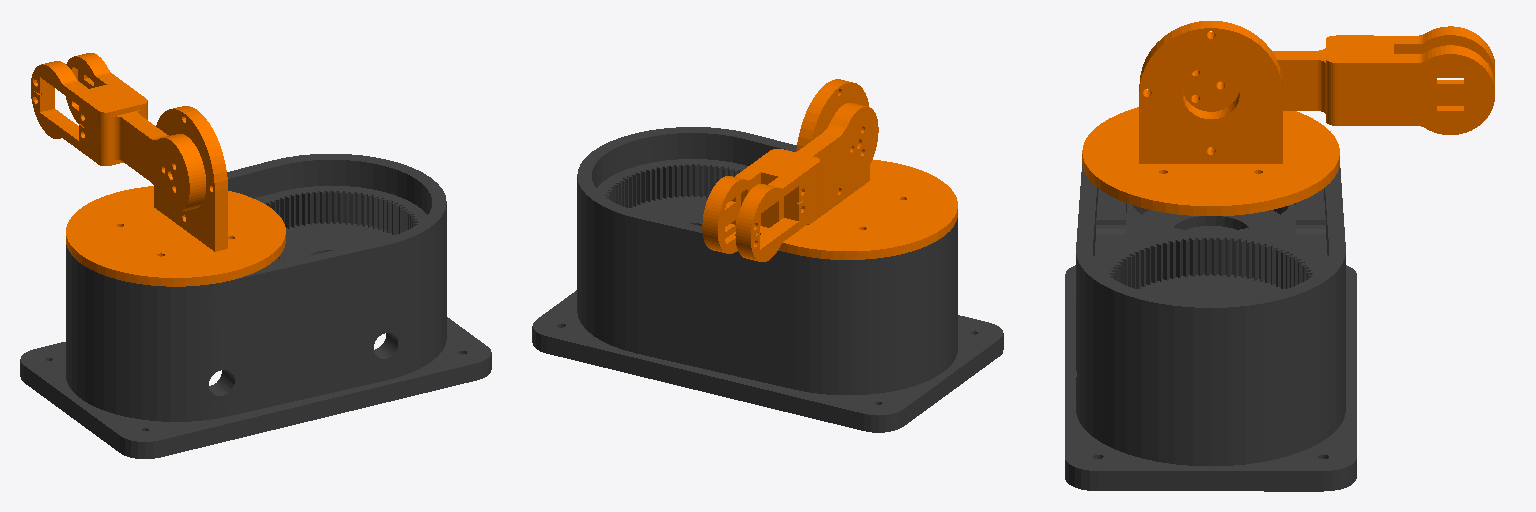
The robot description file, URDF, robot "mi_robot_mesh":
<?xml version="1.0"?>
<robot name="mi_robot_mesh">

<link name="world"/>


  <!-- ============================================== -->
  <!-- 0. BASE FIJA NUEVA                             -->
  <!-- ============================================== -->

  <joint name="joint_base_fija" type="fixed">
    <parent link="world"/>
    <child link="base_fija_link"/>
    <origin xyz="0.09374 0.0 0.0" rpy="0 0 1.57" />
  </joint>

  <link name="base_fija_link">
    <visual>
      <origin xyz="0 0 0" rpy="0 3.141592 0" />
      <geometry>
        <mesh filename="package://movimientos_babotas/meshes/base_fija.stl" scale="0.001 0.001 0.001"/>
      </geometry>
      <material name="gris_oscuro">
        <color rgba="0.3 0.3 0.3 1.0"/>
      </material>
    </visual>
  </link>

  <!-- ============================================== -->
  <!-- ARTICULACION BASE FIJA A CODO BASE             -->
  <!-- ============================================== -->

  <joint name="joint_base_fija_codo" type="revolute">
    <parent link="base_fija_link"/>
    <child link="codo_base_link"/>
    <origin xyz="0 0.09374 0.015" rpy="0 0 -1.57" />
    <axis xyz="0 0 1" />
    <limit lower="-3.1416" upper="3.1416" effort="100.0" velocity="1.5"/>
  </joint>

  <link name="codo_base_link">
    <visual>
      <origin xyz="0 0.0 0" rpy="1.57 0 1.57" />
      <geometry>
        <mesh filename="package://movimientos_babotas/meshes/base_codo.stl" scale="0.001 0.001 0.001"/>
      </geometry>
      <material name="naranja">
        <color rgba="1.0 0.5 0.0 1.0"/>
      </material>
    </visual>
  </link>

  <!-- ============================================== -->
  <!-- CODO BASE A CODO 1                             -->
  <!-- ============================================== -->

  <joint name="joint_codo1" type="revolute">
    <parent link="codo_base_link"/>
    <child link="codo1_link"/>
    <origin xyz="0 0 0.04" rpy="0 0 0" />
    <axis xyz="1 0 0" />
    <limit lower="-3.1416" upper="3.1416" effort="100.0" velocity="1.5"/>
  </joint>

  <link name="codo1_link">
    <visual>
      <origin xyz="-0.0146 0.05177 0" rpy="1.57 0 1.57" />
      <geometry>
        <mesh filename="package://movimientos_babotas/meshes/eslabon_parte1.stl" scale="0.001 0.001 0.001"/>
      </geometry>
      <material name="naranja">
        <color rgba="1.0 0.5 0.0 1.0"/>
      </material>
    </visual>
  </link>


  <!-- ============================================== -->
  <!-- CODO 1 A CODO 2                                -->
  <!-- ============================================== -->

  <joint name="joint_codo2" type="revolute">
    <parent link="codo1_link"/>
    <child link="codo2_link"/>
    <origin xyz="0 0.11 0.0" rpy="0 0 0" />
    <axis xyz="1 0 0" />
    <limit lower="-3.1416" upper="3.1416" effort="100.0" velocity="1.5"/>
  </joint>

  <link name="codo2_link">
    <visual>
      <origin xyz="-0.0146 0.05177 0" rpy="1.57 0 1.57" />
      <geometry>
        <mesh filename="package://movimientos_babotas/meshes/eslabon_parte2.stl" scale="0.001 0.001 0.001"/>
      </geometry>
      <material name="naranja">
        <color rgba="1.0 0.5 0.0 1.0"/>
      </material>
    </visual>
  </link>



</robot>

--- What the picture shows (computed from the rendered views, not written in the file) ---
Views: 3 orthographic renders of the robot side by side, from view 1: azimuth 30°, elevation 25°; view 2: azimuth 150°, elevation 25°; view 3: azimuth 270°, elevation 25°.
Robot: mi_robot_mesh — 5 links, 4 joints (3 revolute, 1 fixed); root link world; default pose: every joint at zero.
Visible links, largest first — view 1: base_fija_link, codo_base_link, codo1_link; view 2: base_fija_link, codo_base_link, codo1_link; view 3: base_fija_link, codo_base_link, codo1_link.
Link boxes in pixels (x1,y1,x2,y2): base_fija_link: [20, 154, 491, 458]; codo_base_link: [66, 106, 285, 286]; codo1_link: [31, 53, 205, 211]; base_fija_link: [532, 127, 1003, 432]; codo_base_link: [758, 79, 957, 259]; codo1_link: [702, 103, 878, 261]; base_fija_link: [1065, 164, 1356, 491]; codo_base_link: [1082, 21, 1339, 215]; codo1_link: [1182, 26, 1494, 134].
Size in the robot's own frame: 0.2216 by 0.1921 by 0.16 metres.
Meshes: 4 distinct files referenced, 3 mesh visuals loaded (3 binary STL); not drawn: 1 (reference not matched to a file when rendering).
